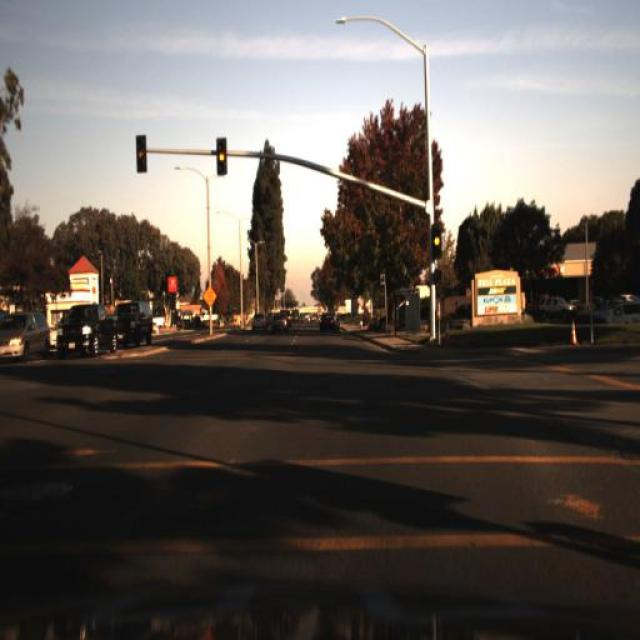car: (52, 297, 116, 358), (0, 307, 50, 368), (104, 295, 158, 350), (534, 291, 578, 320), (268, 308, 290, 341), (318, 306, 338, 336), (246, 310, 266, 335)
trafficLight-Yellow: (132, 126, 148, 173)
trafficLight-YellowLeft: (214, 132, 230, 182), (428, 224, 444, 260)
